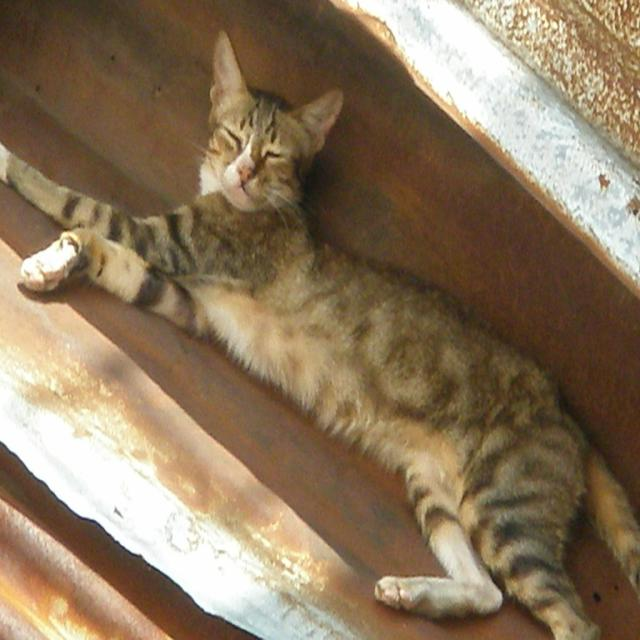Cat: (0, 27, 639, 639)
